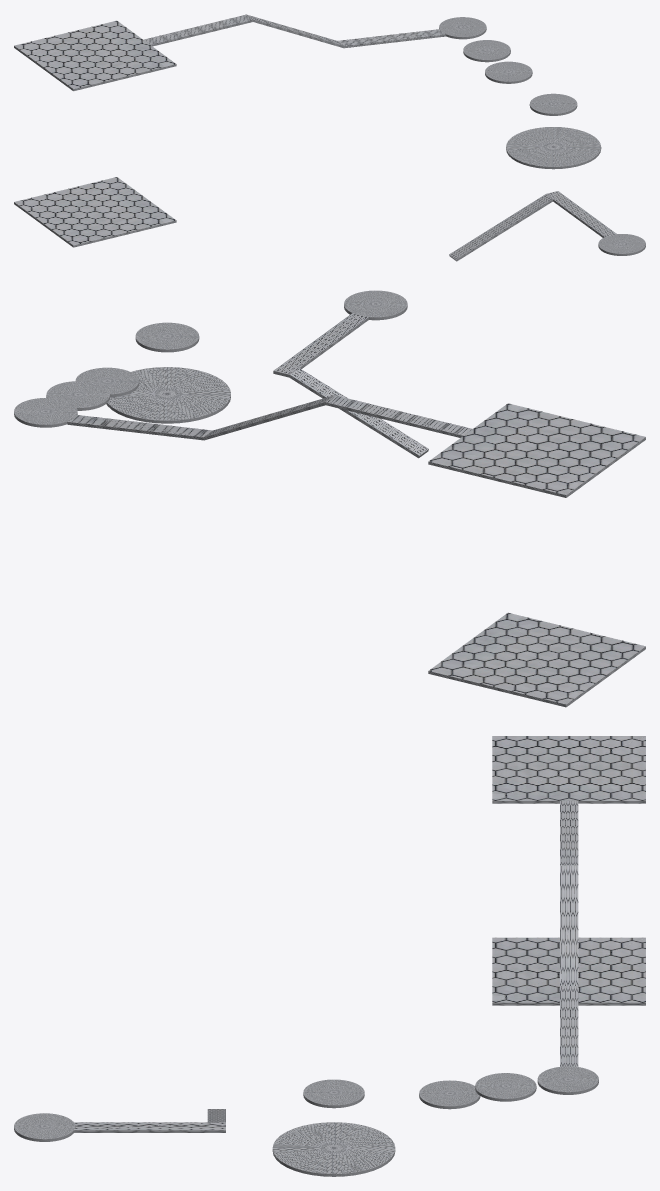
Rendered from Level3.FBX.
3 renders of one model, top to bottom at view 1: azimuth 30°, elevation 25°; view 2: azimuth 150°, elevation 25°; view 3: azimuth 270°, elevation 25°, orthographic. The views are drawn at different scales.
Visible parts, largest first — view 1: Zylinder_3; view 2: Zylinder_3; view 3: Zylinder_3.
Boxes of the visible parts, x1,y1,x2,y2 form: Zylinder_3: [14, 14, 645, 261]; Zylinder_3: [14, 290, 645, 707]; Zylinder_3: [14, 736, 645, 1176].
Size of the model in its own units: 879 by 810 by 290.
